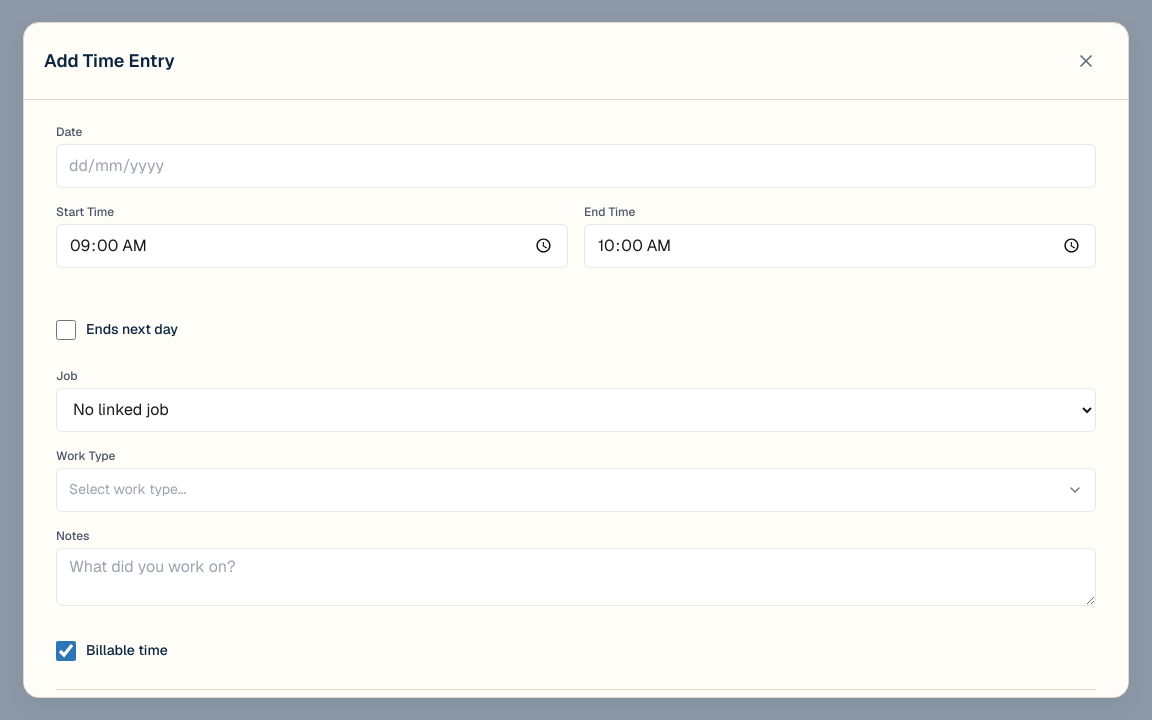
Test: TimeEntryForm save › does not insert when the date is blank
Clear the field labelled "Date": (576, 166) left=56, top=144, right=1096, bottom=188
(page scrolled)
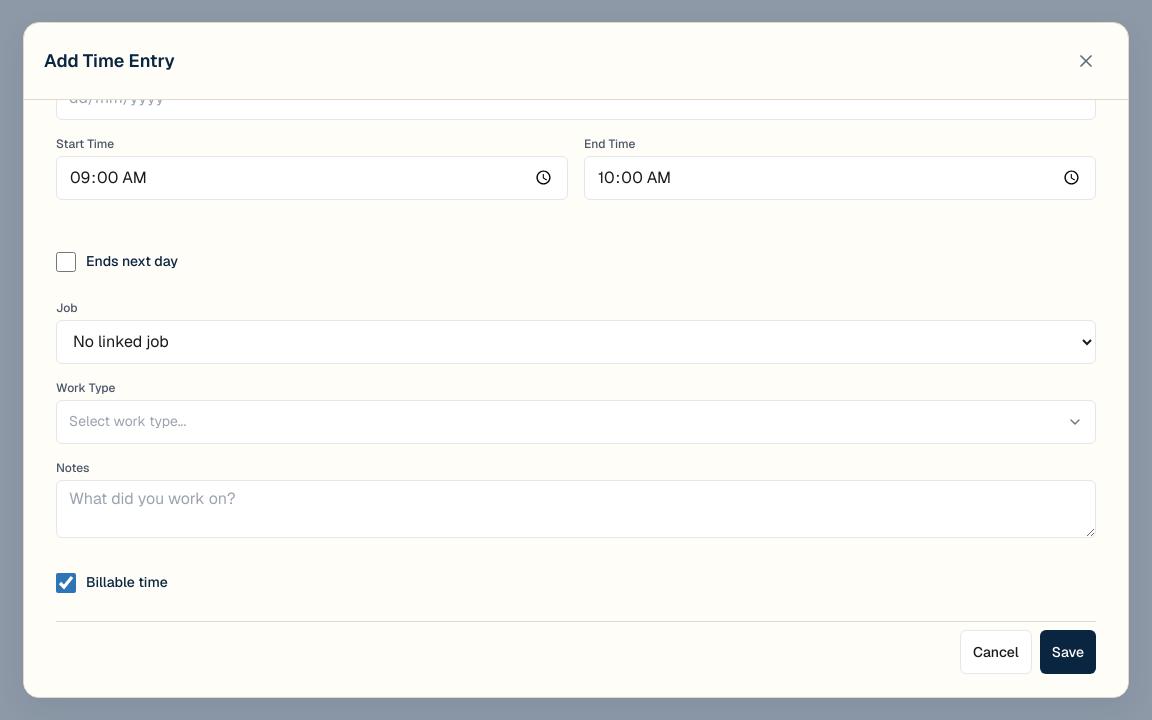
Click the submit button: (1068, 652) left=1040, top=630, right=1096, bottom=674
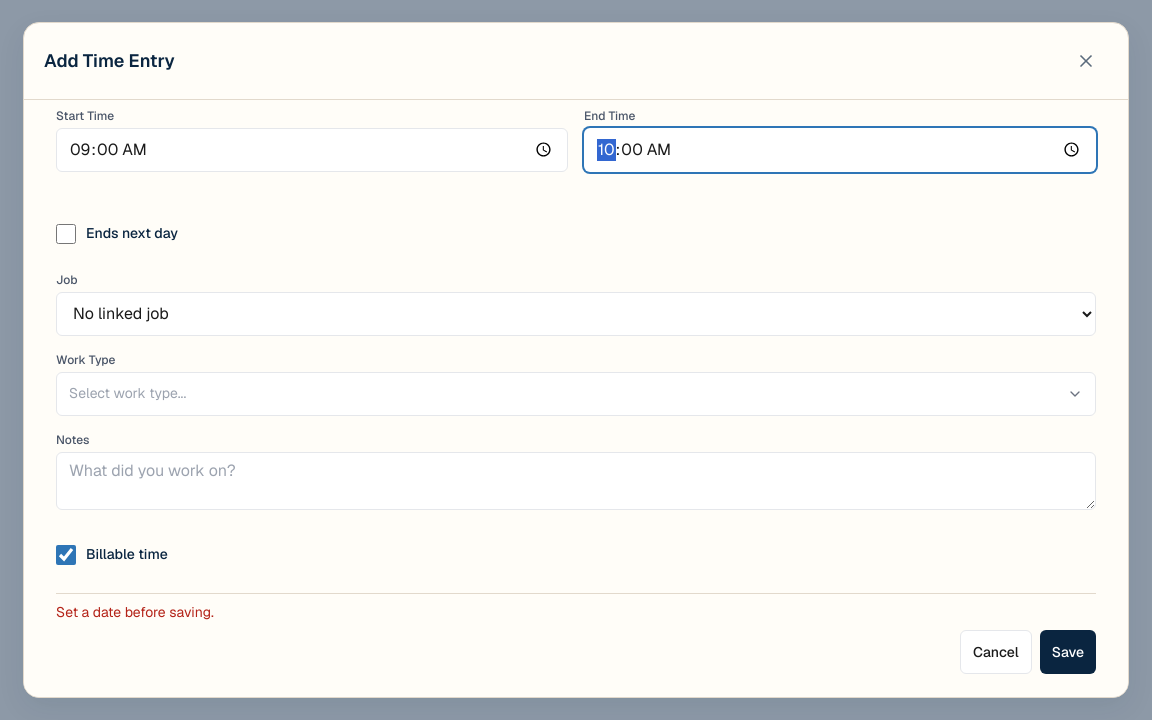
Expected: the message "Set a date before saving." is shown, left=56, top=603, right=214, bottom=621
